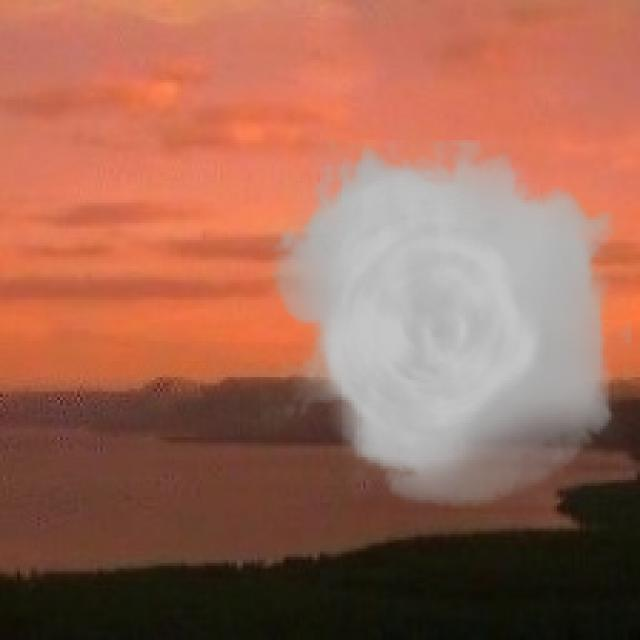Smoke: (259, 140, 632, 509)
